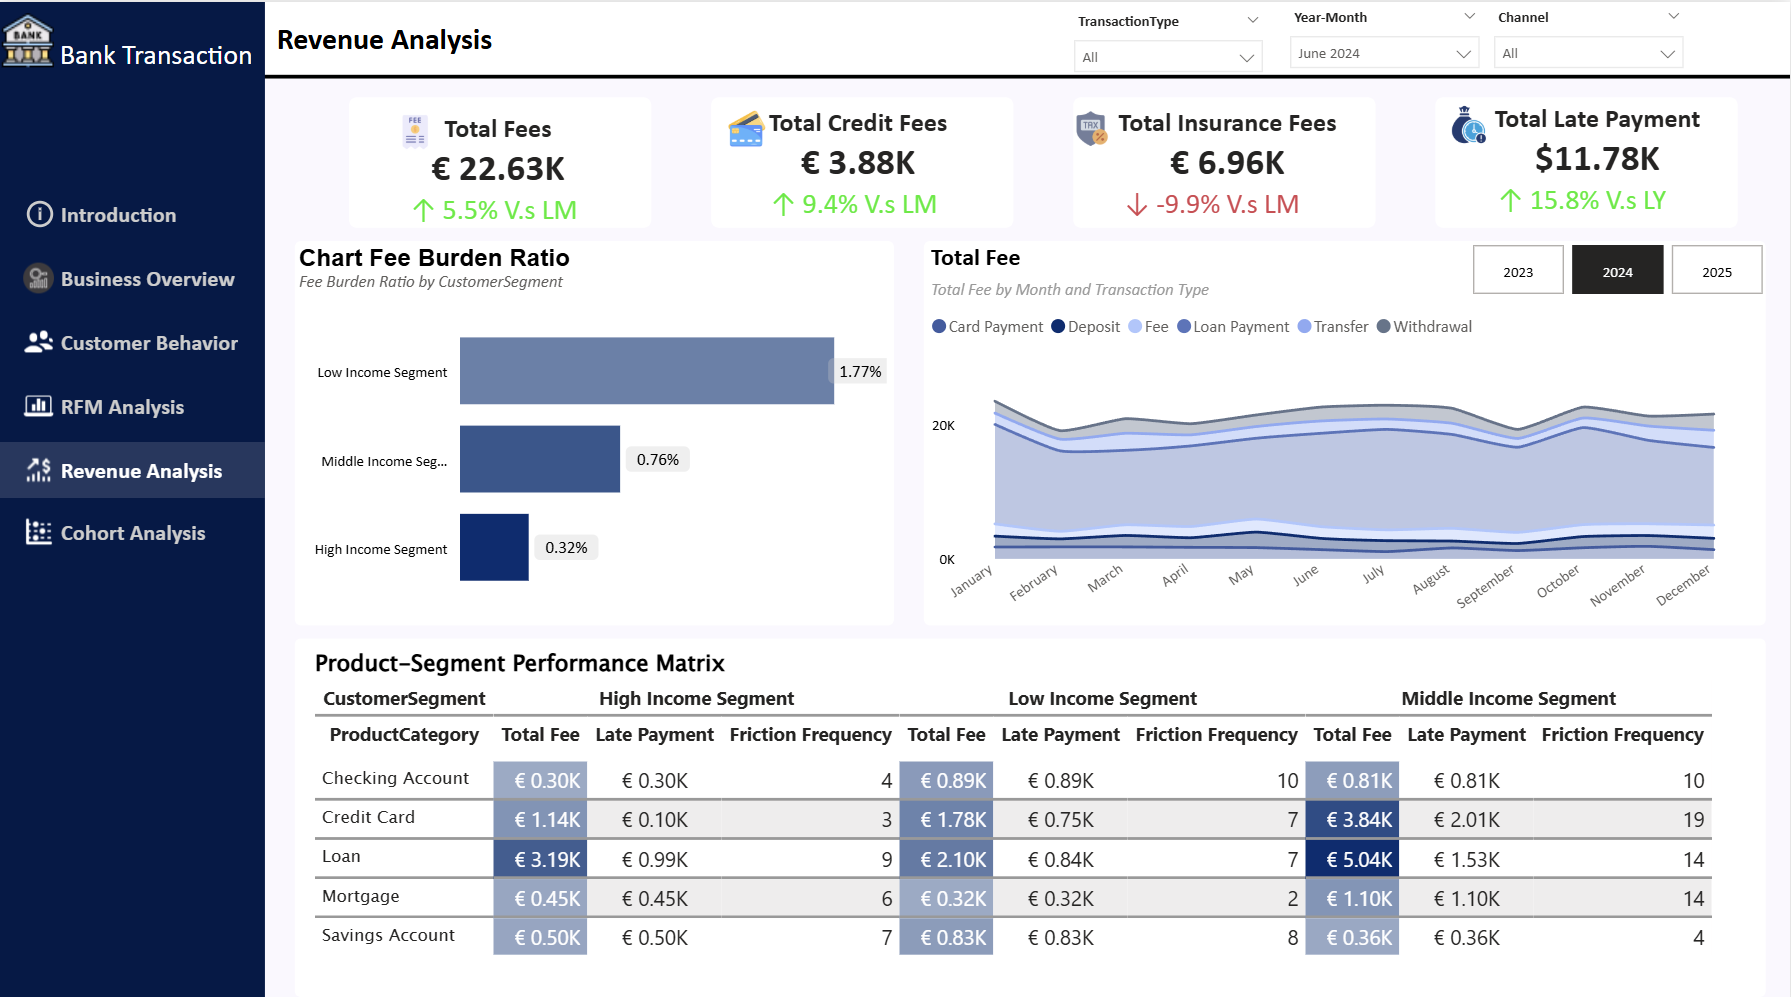

Layout of this report page (visuals, bound fields, positions):
{"tool":"powerbi","page":{"name":"Revenue Analysis","canvas":[1280,720],"ordinal":4},"visuals":[{"type":"slicer","title":"year","fields":{"Values":["Dim_date.Year-Month"]},"box":[913.3,4,155.5,46.4],"z":0,"group":"g13"},{"type":"card","title":"Total Late Payment","fields":{"Values":["Measure.Total Late Payment fe"]},"box":[1033.5,71.2,216.5,55.3],"z":0,"group":"g5"},{"type":"card","title":"Total Insurance Fees","fields":{"Values":["Measure.Total Insurance"]},"box":[769.8,74,216.5,55.3],"z":0,"group":"g7"},{"type":"card","title":"Total Credit Fees","fields":{"Values":["Measure.Total Credit"]},"box":[505.2,74.3,217.3,56],"z":0,"group":"g9"},{"type":"card","title":"Total Fees","fields":{"Values":["Measure.Total Fee"]},"box":[249.1,78,217.3,56],"z":0,"group":"g11"},{"type":"stackedAreaChart","title":"Total Fee","fields":{"Category":["Dim_date.Year-Month.Variation.Date Hierarchy.Year","Dim_date.Year-Month.Variation.Date Hierarchy.Quarter","Dim_date.Year-Month.Variation.Date Hierarchy.Month","Dim_date.Year-Month.Variation.Date Hierarchy.Day"],"Y":["Measure.Total Fee"],"Series":["Fact_transaction.TransactionType"]},"box":[662.1,172.3,587.9,273.4],"z":0,"group":"g2"},{"type":"actionButton","title":"Revenue active Button","box":[0,314.3,190.7,40],"z":0,"group":"g3"},{"type":"group","id":"g1","title":"Cohort Button","box":[0,359.8,190.7,40],"z":0,"group":"g12"},{"type":"pivotTable","title":"Product-Segment Performance Matrix","fields":{"Rows":["Fact_transaction.ProductCategory"],"Columns":["Fact_transaction.CustomerSegment"],"Values":["Measure.Total Fee","Measure.Total Late Payment Fee","Measure.Friction Frequency"]},"box":[221.2,459.9,1019.3,249.7],"z":0},{"type":"slicer","title":"city","fields":{"Values":["Fact_transaction.Channel"]},"box":[1058.8,4,155.5,46.4],"z":1000,"group":"g13"},{"type":"card","fields":{"Values":["Measure.MOM LP growth"]},"box":[1022.4,127.2,217.3,29.3],"z":1000,"group":"g5"},{"type":"card","fields":{"Values":["Measure.MOM insurance growth"]},"box":[758.7,130,217.3,29.3],"z":1000,"group":"g7"},{"type":"card","fields":{"Values":["Measure.MOM credit growth"]},"box":[502.5,130.3,217.3,29.3],"z":1000,"group":"g9"},{"type":"actionButton","title":"Introduction Button","box":[0,132,192,40],"z":1000,"group":"g10"},{"type":"card","fields":{"Values":["Measure.MOM Amount growth"]},"box":[246.4,134,217.3,29.3],"z":1000,"group":"g11"},{"type":"group","id":"g2","title":"Chart Total Fee","box":[662.1,169.1,605.2,276.5],"z":1000},{"type":"advancedSlicerVisual","fields":{"Values":["Dim_date.Year"]},"box":[1049.3,169.1,218.1,45.8],"z":1000,"group":"g2"},{"type":"actionButton","title":"Business Overview Button","box":[0,177.4,191.8,40],"z":1000,"group":"g8"},{"type":"actionButton","title":"Customer Behavior Button","box":[0,223.4,190.7,40],"z":1000,"group":"g6"},{"type":"actionButton","title":"RFM Button","box":[0,268.9,190.7,40],"z":1000,"group":"g4"},{"type":"group","id":"g3","title":"Revenue Button","box":[0,314.3,190.7,40],"z":1000,"group":"g12"},{"type":"actionButton","title":"Cohort Button","box":[0,359.8,190.7,40],"z":1000,"group":"g1"},{"type":"slicer","title":"Transaction type","fields":{"Values":["Fact_transaction.TransactionType"]},"box":[758.5,6.3,154.9,45.8],"z":2000,"group":"g13"},{"type":"image","box":[1027.1,68,47.4,37.9],"z":2000,"group":"g5"},{"type":"image","box":[758.7,70.8,45.8,37.9],"z":2000,"group":"g7"},{"type":"image","box":[510.4,71.1,47.4,37.9],"z":2000,"group":"g9"},{"type":"image","box":[275.7,74,44,37.3],"z":2000,"group":"g11"},{"type":"clusteredBarChart","title":"Chart Fee Burden Ratio","fields":{"Category":["Fact_transaction.CustomerSegment"],"Y":["Measure.Fee Burden Ratio"]},"box":[210.2,172.2,429.8,273.4],"z":2000},{"type":"group","id":"g4","title":"RFM Button","box":[0,268.9,190.7,40],"z":2000,"group":"g12"},{"type":"group","id":"g5","title":"Card Late","box":[1022.4,68,227.6,88.5],"z":3000},{"type":"group","id":"g6","title":"Customers Behavior Button","box":[0,223.4,190.7,40],"z":3000,"group":"g12"},{"type":"group","id":"g7","title":"Card Insurance","box":[758.7,70.8,227.6,88.5],"z":4000},{"type":"group","id":"g8","title":"Business Overview Button","box":[0,177.4,191.8,40.5],"z":4000,"group":"g12"},{"type":"group","id":"g9","title":"Card Credit","box":[502.5,71.1,220,88.5],"z":5000},{"type":"group","id":"g10","title":"Introduction Button","box":[0,132,192,40],"z":5000,"group":"g12"},{"type":"group","id":"g11","title":"Card Fee","box":[246.4,74,220,89.3],"z":6000},{"type":"group","id":"g12","title":"Navigation","box":[0,132,192,267.8],"z":7000},{"type":"group","id":"g13","title":"Slicer","box":[758.5,4,455.7,48.1],"z":8000}]}

Visuals, with their boxes on the page's 1280x720 design canvas (x1, y1, x2, y2). These are canvas units, not pixel positions in the 1791x997 screenshot, which may show the page scaled, cropped or inside an application window:
"year" slicer: BBox(913, 4, 1069, 50)
"Total Late Payment" card: BBox(1034, 71, 1250, 126)
"Total Insurance Fees" card: BBox(770, 74, 986, 129)
"Total Credit Fees" card: BBox(505, 74, 722, 130)
"Total Fees" card: BBox(249, 78, 466, 134)
"Total Fee" stackedAreaChart: BBox(662, 172, 1250, 446)
"Revenue active Button" actionButton: BBox(0, 314, 191, 354)
"Cohort Button" group: BBox(0, 360, 191, 400)
"Product-Segment Performance Matrix" pivotTable: BBox(221, 460, 1240, 710)
"city" slicer: BBox(1059, 4, 1214, 50)
card - Measure.MOM LP growth: BBox(1022, 127, 1240, 156)
card - Measure.MOM insurance growth: BBox(759, 130, 976, 159)
card - Measure.MOM credit growth: BBox(502, 130, 720, 160)
"Introduction Button" actionButton: BBox(0, 132, 192, 172)
card - Measure.MOM Amount growth: BBox(246, 134, 464, 163)
"Chart Total Fee" group: BBox(662, 169, 1267, 446)
advancedSlicerVisual - Dim_date.Year: BBox(1049, 169, 1267, 215)
"Business Overview Button" actionButton: BBox(0, 177, 192, 217)
"Customer Behavior Button" actionButton: BBox(0, 223, 191, 263)
"RFM Button" actionButton: BBox(0, 269, 191, 309)
"Revenue Button" group: BBox(0, 314, 191, 354)
"Cohort Button" actionButton: BBox(0, 360, 191, 400)
"Transaction type" slicer: BBox(758, 6, 913, 52)
image: BBox(1027, 68, 1074, 106)
image: BBox(759, 71, 804, 109)
image: BBox(510, 71, 558, 109)
image: BBox(276, 74, 320, 111)
"Chart Fee Burden Ratio" clusteredBarChart: BBox(210, 172, 640, 446)
"RFM Button" group: BBox(0, 269, 191, 309)
"Card Late" group: BBox(1022, 68, 1250, 156)
"Customers Behavior Button" group: BBox(0, 223, 191, 263)
"Card Insurance" group: BBox(759, 71, 986, 159)
"Business Overview Button" group: BBox(0, 177, 192, 218)
"Card Credit" group: BBox(502, 71, 722, 160)
"Introduction Button" group: BBox(0, 132, 192, 172)
"Card Fee" group: BBox(246, 74, 466, 163)
"Navigation" group: BBox(0, 132, 192, 400)
"Slicer" group: BBox(758, 4, 1214, 52)
